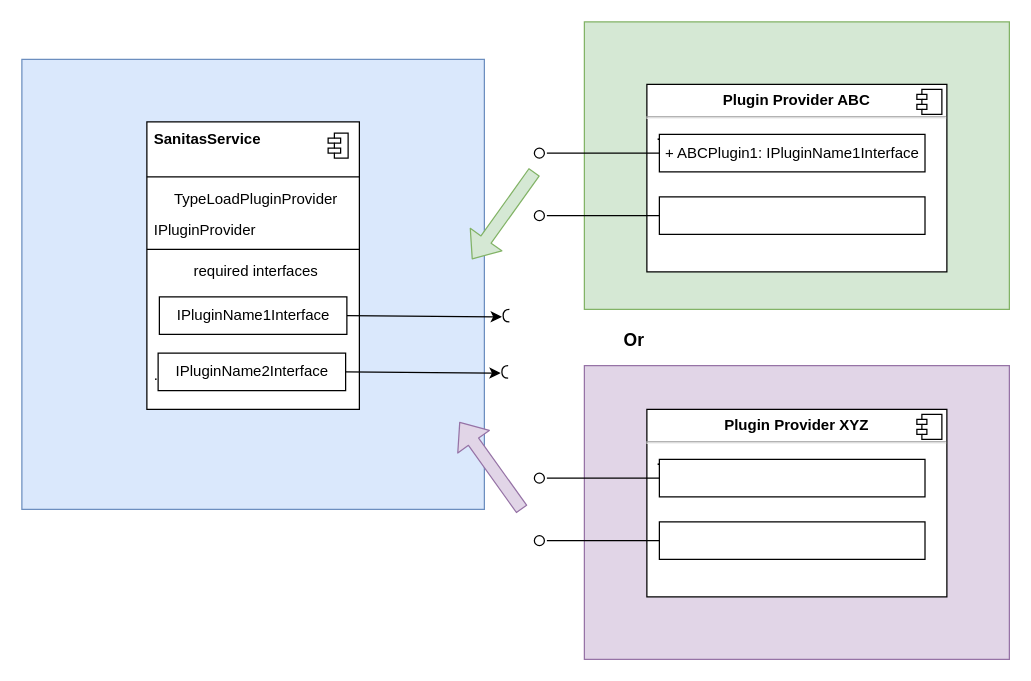
Image size: 1031x681. Some labels were removed from this diagram. The centre of each missing label's shape, as x and y in pixels:
+ ABCPlugin2: IPluginName2Interface: (x=791, y=215)
+ XYZPlugin1: IPluginName1Interface: (x=791, y=477)
+ XYZPlugin2: IPluginName2Interface: (x=791, y=540)
